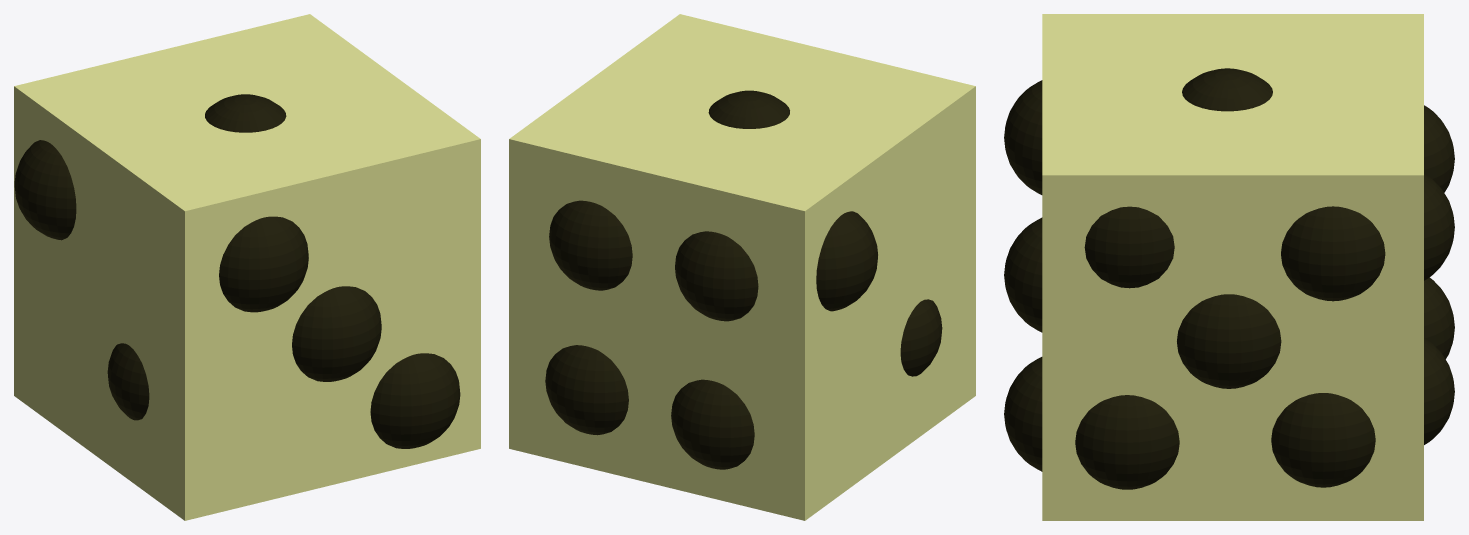
File: dice.glb
3 views of the same model, side by side, from view 1: azimuth 30°, elevation 25°; view 2: azimuth 150°, elevation 25°; view 3: azimuth 270°, elevation 25° (orthographic). The views are drawn at different scales.
Visible parts, largest first — view 1: Cube, Sphere.003, Sphere.004, Sphere.005, Sphere.001, Sphere, Sphere.020; view 2: Cube, Sphere.006, Sphere.019, Sphere.008, Sphere.007, Sphere.001, Sphere, Sphere.020; view 3: Cube, Sphere.010, Sphere.011, Sphere.013, Sphere.012, Sphere.009, Sphere.003, Sphere.004, Sphere.005, Sphere, Sphere.007, Sphere.019 (+2 smaller).
Boxes of the visible parts, x1=… form: Cube: x1=14, y1=14, x2=480, y2=520; Sphere.003: x1=219, y1=216, x2=308, y2=312; Sphere.004: x1=292, y1=286, x2=381, y2=381; Sphere.005: x1=370, y1=353, x2=460, y2=448; Sphere.001: x1=14, y1=140, x2=76, y2=240; Sphere: x1=205, y1=94, x2=286, y2=132; Sphere.020: x1=107, y1=343, x2=149, y2=420; Cube: x1=509, y1=14, x2=975, y2=520; Sphere.006: x1=675, y1=231, x2=758, y2=321; Sphere.019: x1=549, y1=200, x2=632, y2=290; Sphere.008: x1=671, y1=379, x2=754, y2=469; Sphere.007: x1=545, y1=345, x2=628, y2=435; Sphere.001: x1=816, y1=211, x2=877, y2=311; Sphere: x1=708, y1=90, x2=789, y2=128; Sphere.020: x1=900, y1=299, x2=942, y2=376; Cube: x1=1042, y1=14, x2=1423, y2=520; Sphere.010: x1=1075, y1=395, x2=1179, y2=489; Sphere.011: x1=1271, y1=393, x2=1375, y2=487; Sphere.013: x1=1281, y1=206, x2=1385, y2=301; Sphere.012: x1=1177, y1=294, x2=1281, y2=388; Sphere.009: x1=1084, y1=206, x2=1174, y2=288; Sphere.003: x1=1004, y1=80, x2=1042, y2=194; Sphere.004: x1=1004, y1=217, x2=1042, y2=332; Sphere.005: x1=1004, y1=357, x2=1042, y2=471; Sphere: x1=1182, y1=68, x2=1272, y2=111; Sphere.007: x1=1424, y1=338, x2=1454, y2=444; Sphere.019: x1=1424, y1=174, x2=1454, y2=280.
Bounding box in the file's own units: 2.34 × 2.23 × 2.36.
